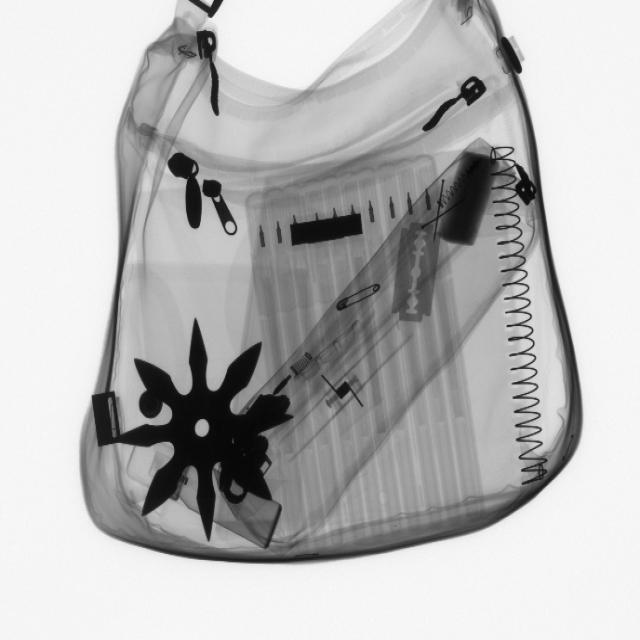BLADE: (387, 210, 446, 331)
SHURIKEN: (116, 314, 287, 547)
